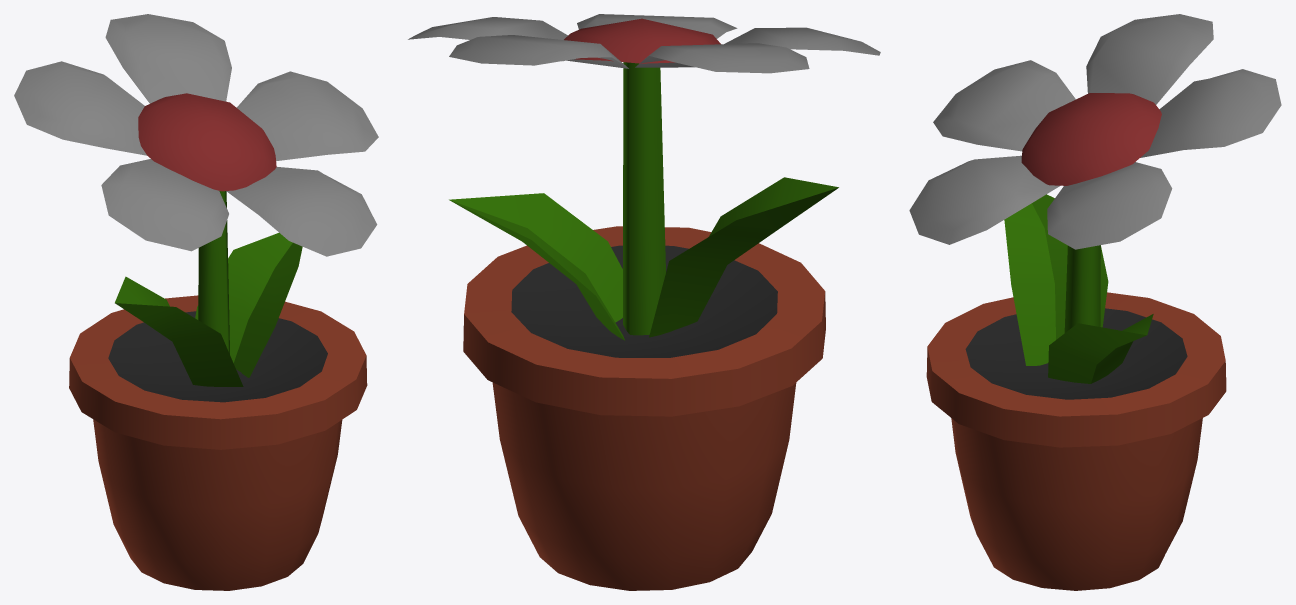
Rendered from flower_pot.fbx.
The picture shows the model from 3 angles, left to right: view 1: azimuth 30°, elevation 25°; view 2: azimuth 150°, elevation 25°; view 3: azimuth 270°, elevation 25°; orthographic projection. The views are drawn at different scales.
Parts seen in each view (by area): view 1: flower_pot; view 2: flower_pot; view 3: flower_pot.
Boxes of the visible parts, x1,y1,x2,y2 form: flower_pot: (14, 14, 378, 590); flower_pot: (408, 14, 880, 590); flower_pot: (909, 14, 1281, 590).
Size of the model in its own units: 49.64 by 67.42 by 48.09.
